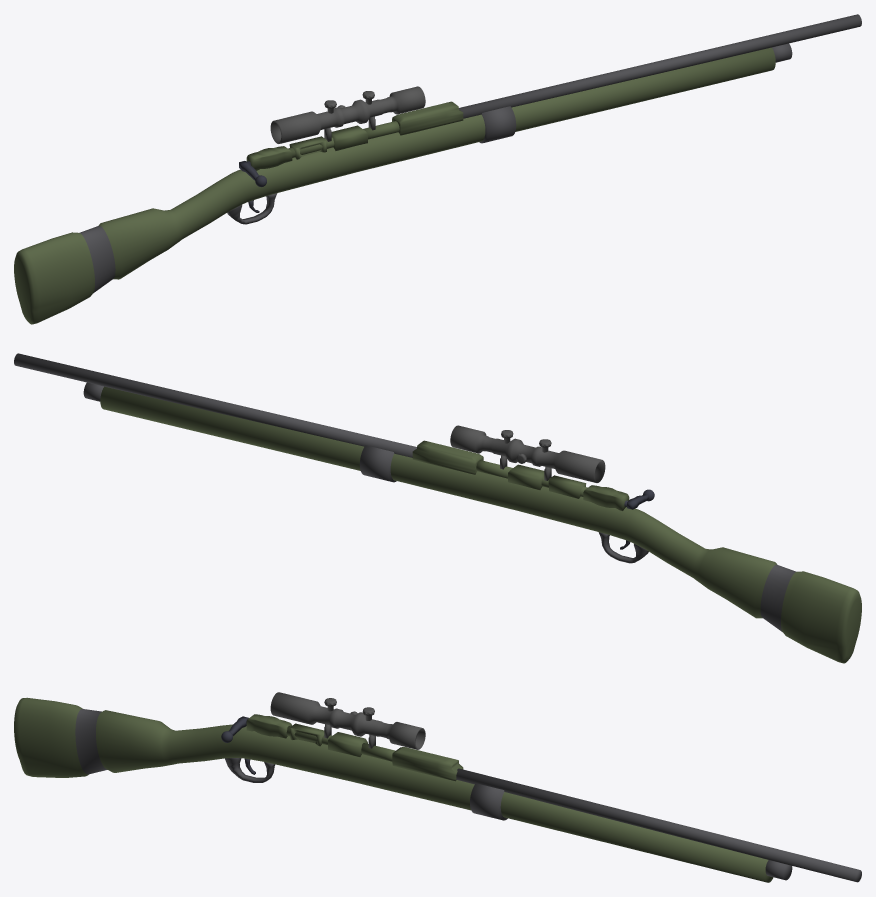
The model's file is Lebel Model 1886.fbx.
3 renders of one model, top to bottom at view 1: azimuth 30°, elevation 25°; view 2: azimuth 150°, elevation 25°; view 3: azimuth 330°, elevation 25°, orthographic.
Parts seen in each view (by area): view 1: Body, Scope; view 2: Body, Scope; view 3: Body, Scope.
Boxes of the visible parts, x1,y1,x2,y2 form: Body: (14, 14, 861, 324); Scope: (270, 86, 425, 143); Body: (14, 353, 861, 663); Scope: (450, 425, 605, 482); Body: (14, 697, 861, 882); Scope: (270, 692, 425, 749).
Bounding box in the file's own units: 9.87 × 1.67 × 0.5963.
